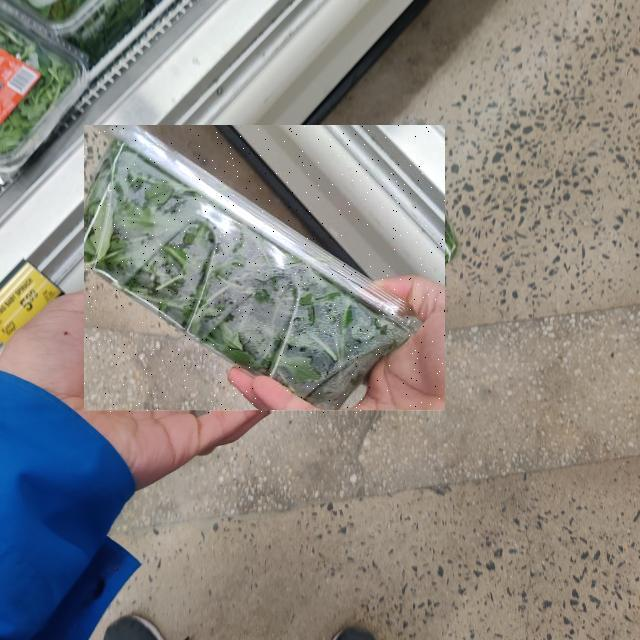Lettuce: (84, 126, 445, 414)
